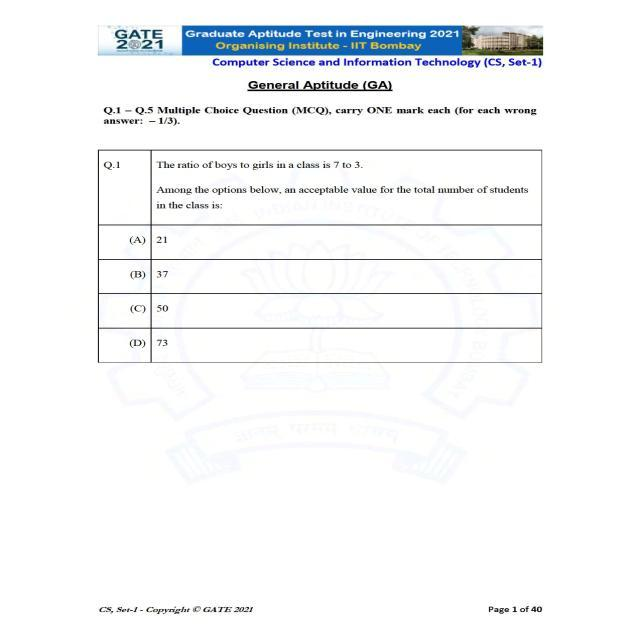Answer_Block: (98, 225, 540, 360)
Question_Answer_Block: (96, 149, 542, 360)
Question_Block: (97, 151, 540, 223)
Question_Paper_Area: (98, 150, 540, 362)
